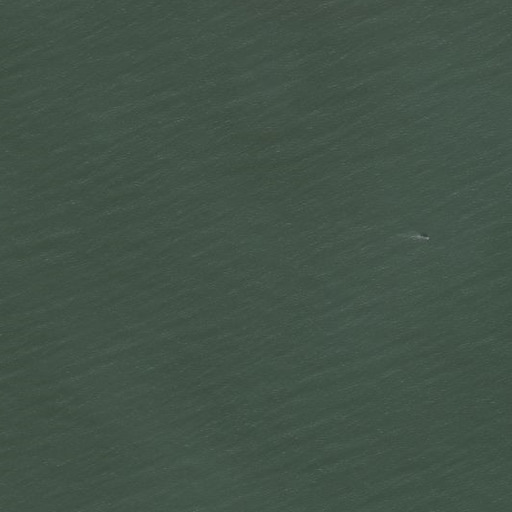ship: (412, 230, 431, 243)
